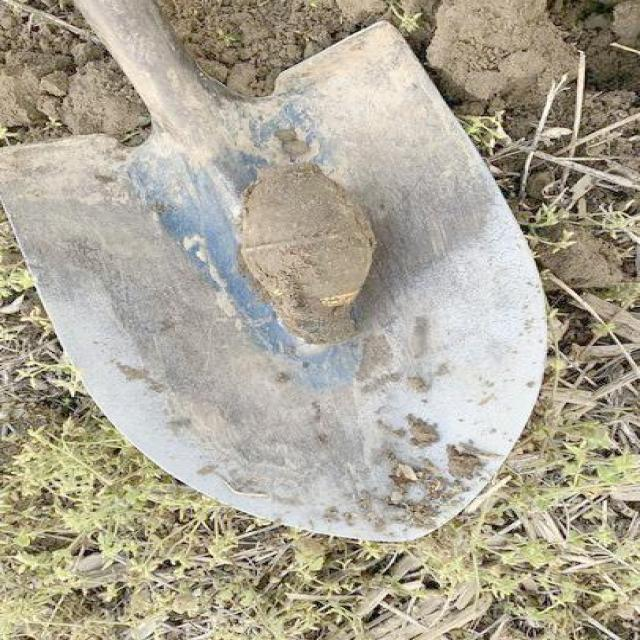grenade: (242, 167, 378, 347)
